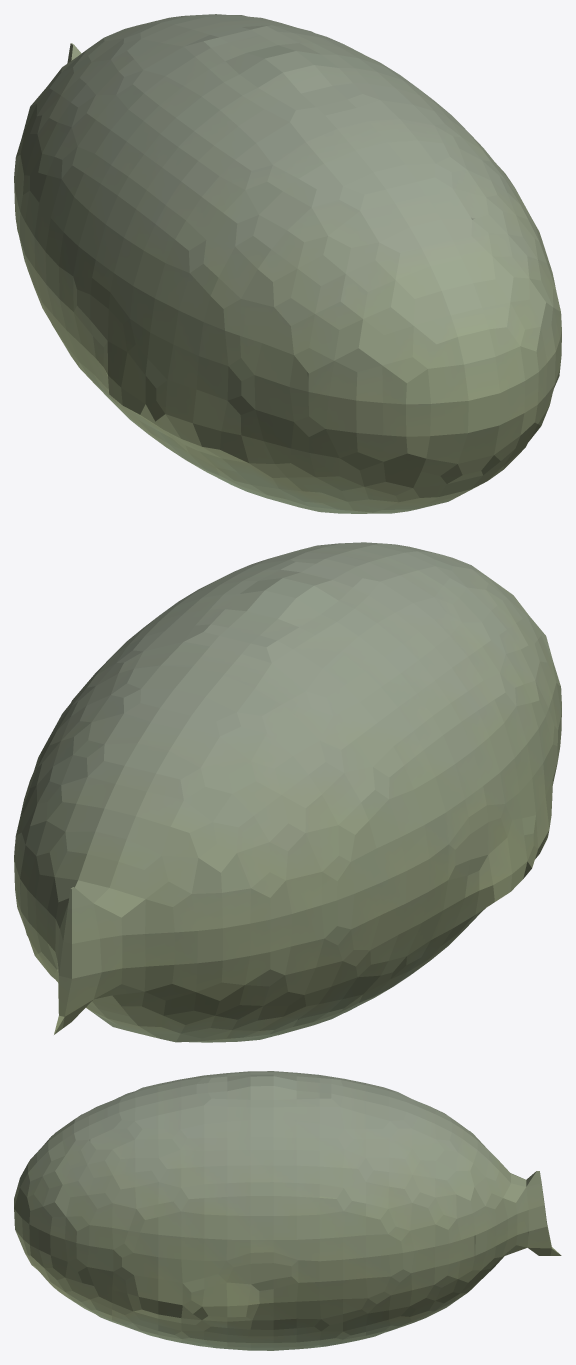
Rendered from kraken.glb.
3 views of the same model, one above another, from view 1: azimuth 30°, elevation 25°; view 2: azimuth 150°, elevation 25°; view 3: azimuth 270°, elevation 25° (orthographic). The views are drawn at different scales.
Visible parts, largest first — view 1: geometry_0; view 2: geometry_0; view 3: geometry_0.
Part boxes in pixels (bbox=[...]): geometry_0: bbox=[14, 14, 561, 513]; geometry_0: bbox=[14, 542, 561, 1042]; geometry_0: bbox=[14, 1071, 561, 1350].
Size of the model in its own units: 0.8522 by 0.8387 by 1.63.
1 material, 1 textured.
